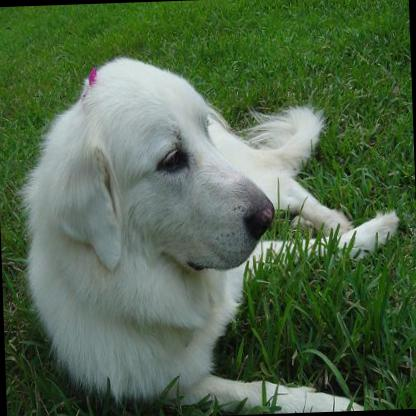Great_Pyrenees: (10, 44, 406, 416)
